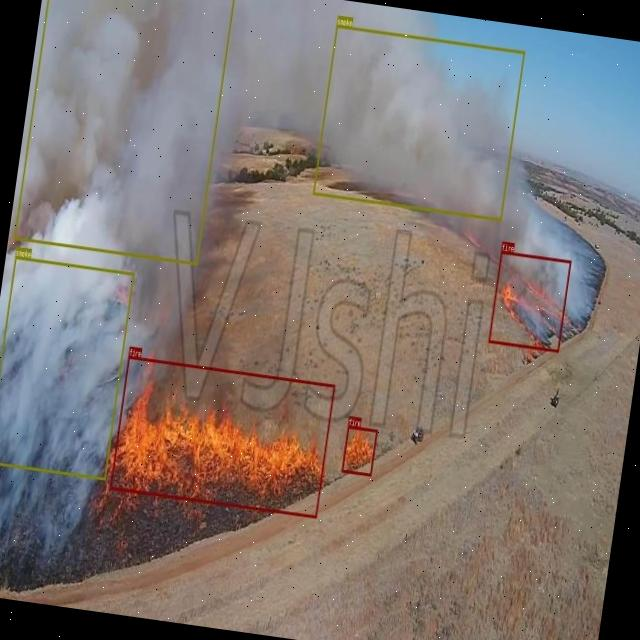fire: (110, 356, 336, 518), (488, 250, 572, 352), (341, 426, 377, 476)
smoke: (14, 0, 235, 264), (312, 24, 524, 220), (0, 256, 135, 480)
